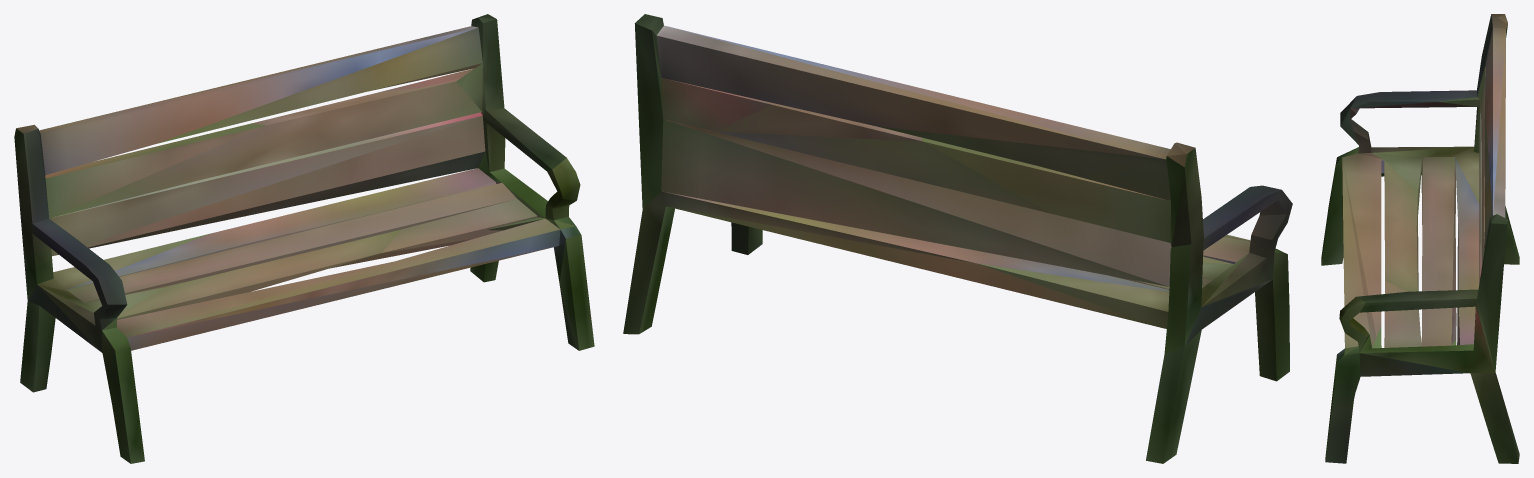
The model's file is bench-park.glb.
3 views of the same model, side by side, from view 1: azimuth 30°, elevation 25°; view 2: azimuth 150°, elevation 25°; view 3: azimuth 270°, elevation 25° (orthographic). The views are drawn at different scales.
Parts seen in each view (by area): view 1: Mesh_0.16698; view 2: Mesh_0.16698; view 3: Mesh_0.16698.
Part boxes in pixels (<box>): Mesh_0.16698: <box>14,14,594,463</box>; Mesh_0.16698: <box>623,14,1292,463</box>; Mesh_0.16698: <box>1321,14,1519,463</box>.
Bounding box in the file's own units: 1.59 × 0.85 × 0.6313.
1 material, 1 textured.
